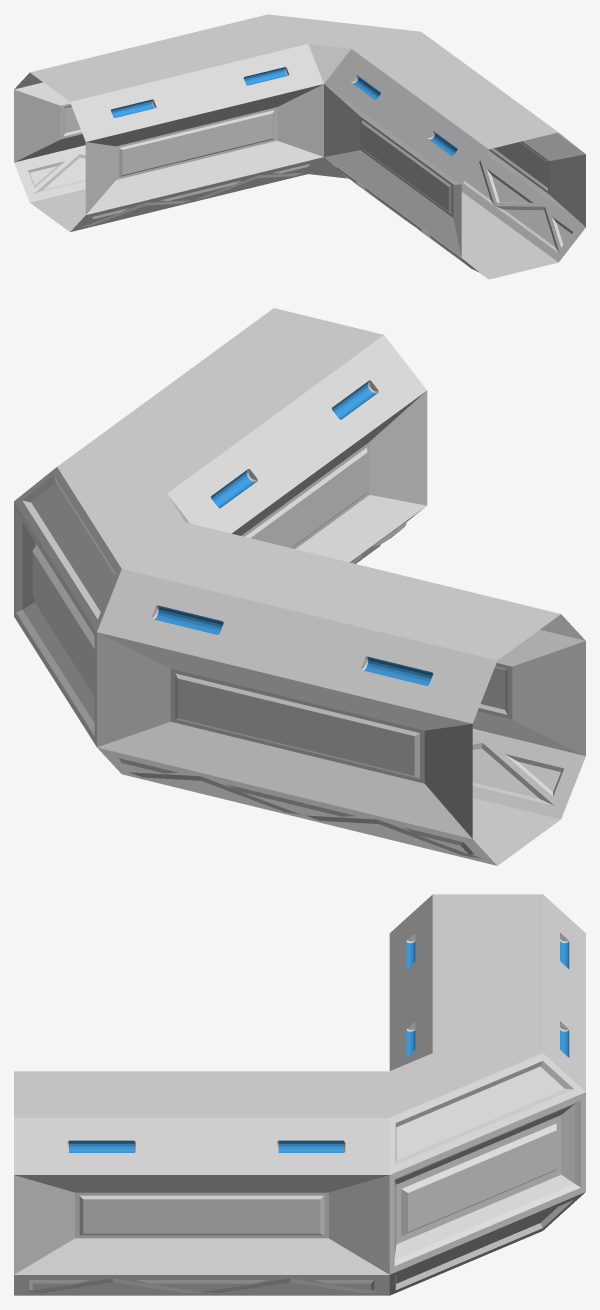
The model's file is CorridorCorner.fbx.
3 renders of one model, top to bottom at view 1: azimuth 30°, elevation 25°; view 2: azimuth 150°, elevation 25°; view 3: azimuth 270°, elevation 25°, orthographic. The views are drawn at different scales.
Visible parts, largest first — view 1: Cube.002; view 2: Cube.002; view 3: Cube.002.
Boxes of the visible parts, box(x1,y1,x2,y2) form: Cube.002: box(14, 14, 585, 279); Cube.002: box(14, 308, 585, 865); Cube.002: box(14, 894, 585, 1295).
Bounding box in the file's own units: 1749 × 600 × 1749.
